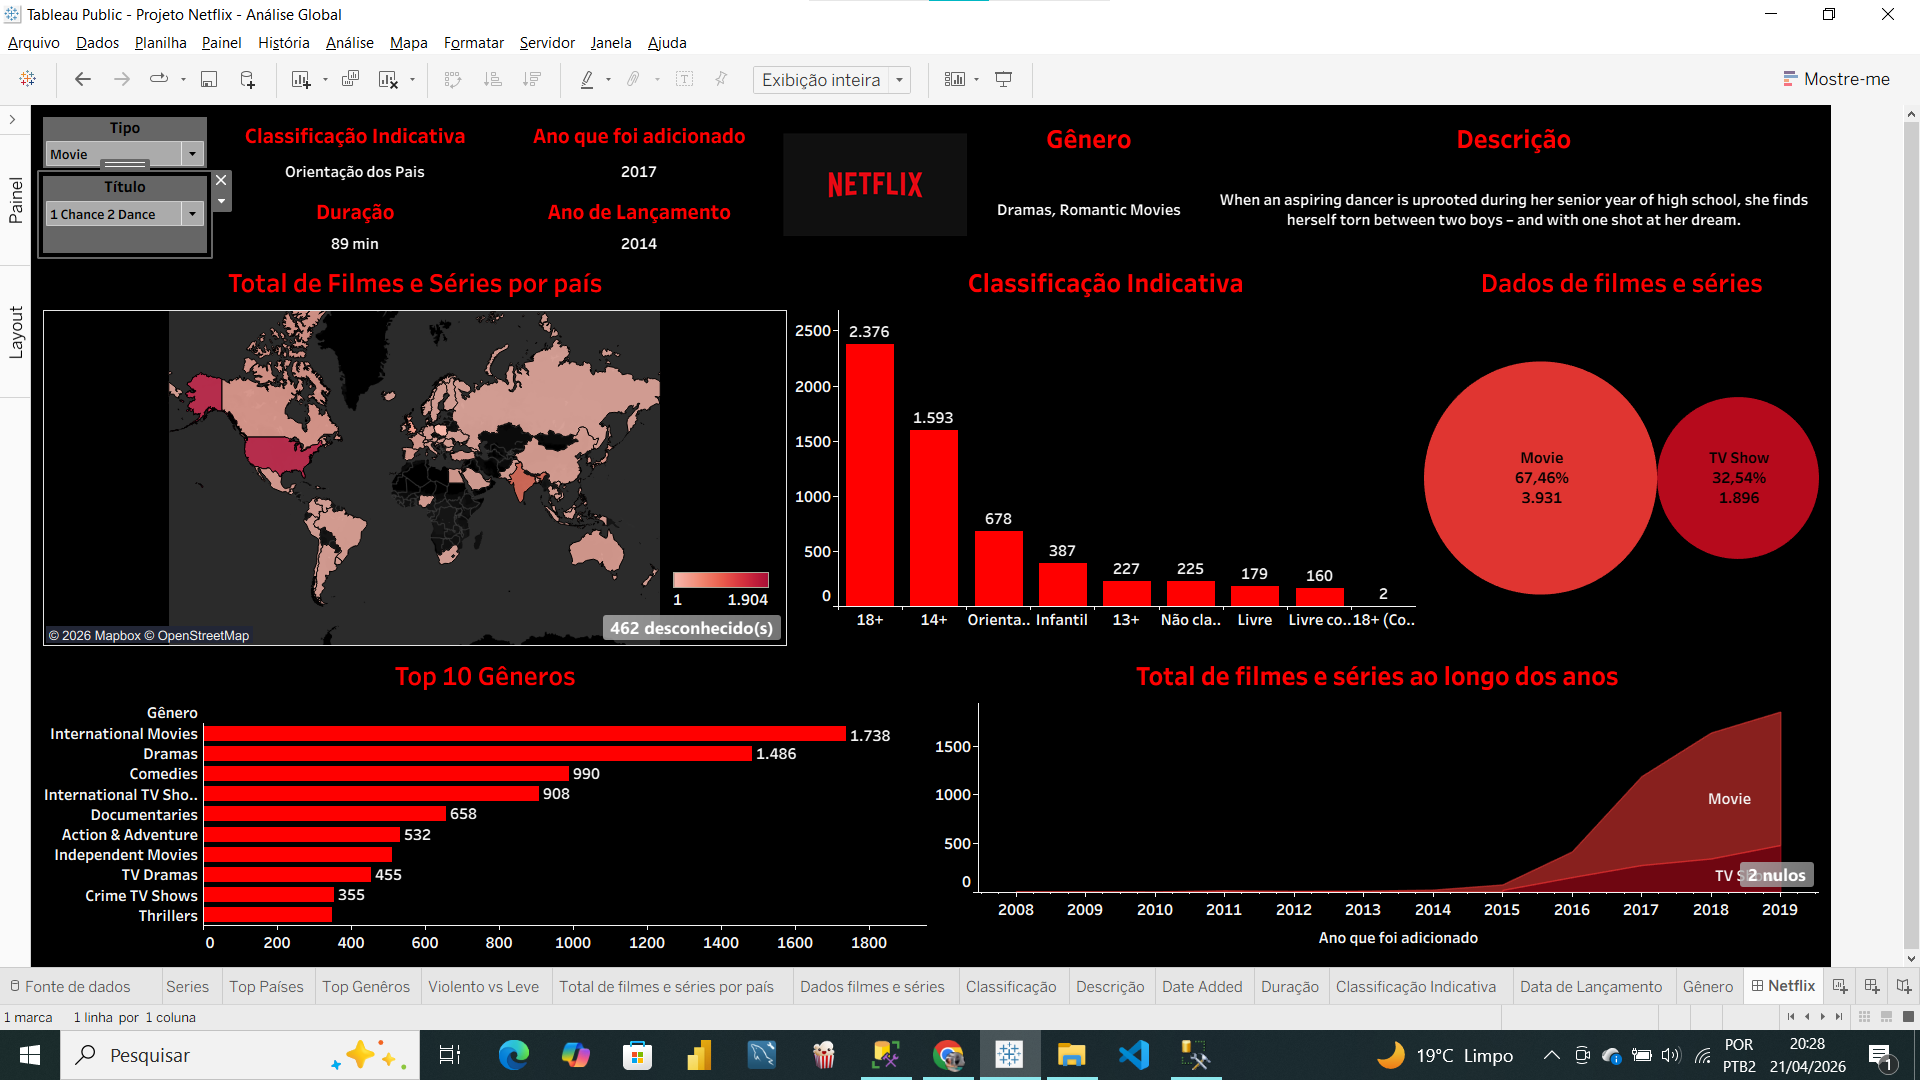

The dashboard page shown, as its layout file describes it:
{"tool":"tableau","page":{"name":"Netflix","canvas":[1000,1000],"units":"permille","ordinal":0},"visuals":[{"type":"filter","title":"Descrição","param":"[federated.1lp2ess00dh18316hk9781jfpqec].[none:type:nk]","box":[4.4,9.3,95.4,68.5]},{"type":"worksheet","title":"Classificação Indicativa","mark":"Automatic","box":[99.9,9.3,160.1,88.2]},{"type":"worksheet","title":"Date Added","mark":"Automatic","box":[259.9,9.3,155.8,88.3]},{"type":"image","param":"Image/netflix.jpg","box":[415.7,9.3,106.9,167]},{"type":"worksheet","title":"Gênero","mark":"Automatic","box":[522.6,9.3,129.2,167]},{"type":"worksheet","title":"Descrição","mark":"Automatic","box":[651.9,9.3,343.7,167]},{"type":"filter","title":"Descrição","param":"[federated.1lp2ess00dh18316hk9781jfpqec].[none:title:nk]","box":[4.4,77.8,95.4,98.5]},{"type":"worksheet","title":"Duração","mark":"Automatic","box":[99.9,97.4,160.1,78.9]},{"type":"worksheet","title":"Data de Lançamento","mark":"Automatic","box":[259.9,97.5,155.8,78.8]},{"type":"worksheet","title":"Total de filmes e séries por país","mark":"Multipolygon","box":[4.4,176.3,417.8,456.3]},{"type":"worksheet","title":"Classificação","mark":"Automatic","rows":["show_id"],"cols":["Calculation_0761748946825216"],"box":[422.3,176.3,349.7,456.3]},{"type":"worksheet","title":"Dados filmes e séries","mark":"Circle","box":[771.9,176.3,223.6,456.3]},{"type":"legend","title":"Total de filmes e séries por país","param":"[federated.1lp2ess00dh18316hk9781jfpqec].[ctd:show_id:qk]","box":[354.4,537.1,57.8,49.9]},{"type":"worksheet","title":"Top Genêros","mark":"Automatic","rows":["F1"],"cols":["F2"],"box":[4.4,632.6,495.5,358.1]},{"type":"worksheet","title":"Filmes vs Series","mark":"Area","rows":["show_id"],"cols":["date_added"],"box":[499.9,632.6,495.7,358.1]}]}

Visuals, with their boxes on the dashboard's canvas, which has no fixed pixel size, in thousandths of its width and height (x1, y1, x2, y2). These are canvas units, not pixel positions in the 1920x1080 screenshot, which may show the page scaled, cropped or inside an application window:
"Descrição" filter: locate(4, 9, 100, 78)
"Classificação Indicativa" worksheet: locate(100, 9, 260, 98)
"Date Added" worksheet: locate(260, 9, 416, 98)
image: locate(416, 9, 523, 176)
"Gênero" worksheet: locate(523, 9, 652, 176)
"Descrição" worksheet: locate(652, 9, 996, 176)
"Descrição" filter: locate(4, 78, 100, 176)
"Duração" worksheet: locate(100, 97, 260, 176)
"Data de Lançamento" worksheet: locate(260, 98, 416, 176)
"Total de filmes e séries por país" worksheet (Multipolygon marks): locate(4, 176, 422, 633)
"Classificação" worksheet: locate(422, 176, 772, 633)
"Dados filmes e séries" worksheet (Circle marks): locate(772, 176, 996, 633)
"Total de filmes e séries por país" legend: locate(354, 537, 412, 587)
"Top Genêros" worksheet: locate(4, 633, 500, 991)
"Filmes vs Series" worksheet (Area marks): locate(500, 633, 996, 991)
